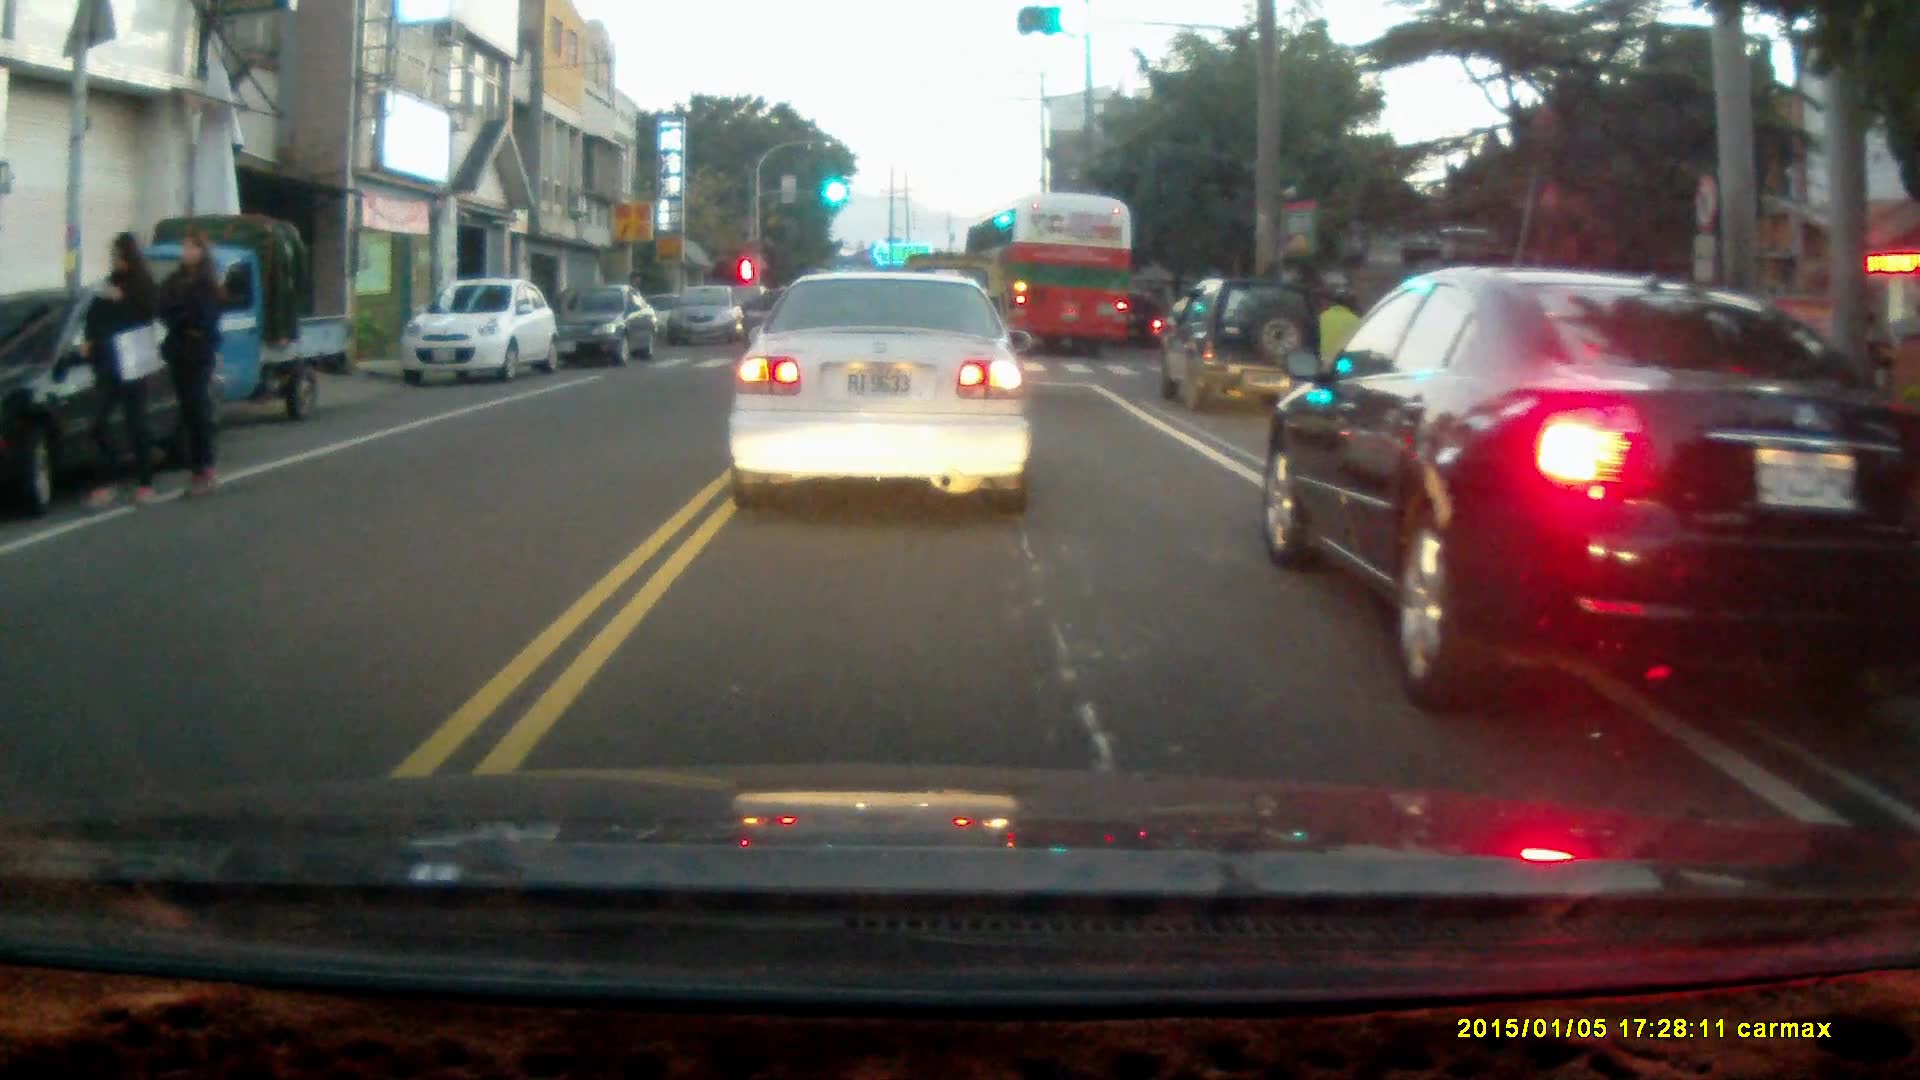pedestrian: (78, 231, 165, 507), (159, 229, 229, 502)
rider: (1314, 284, 1373, 411), (1116, 292, 1164, 352)
vehicle: (1262, 270, 1920, 703), (726, 266, 1034, 518), (102, 213, 354, 423), (1, 283, 230, 513), (963, 196, 1132, 359), (1161, 276, 1326, 416), (403, 279, 557, 385), (549, 279, 663, 369), (664, 286, 748, 352)
